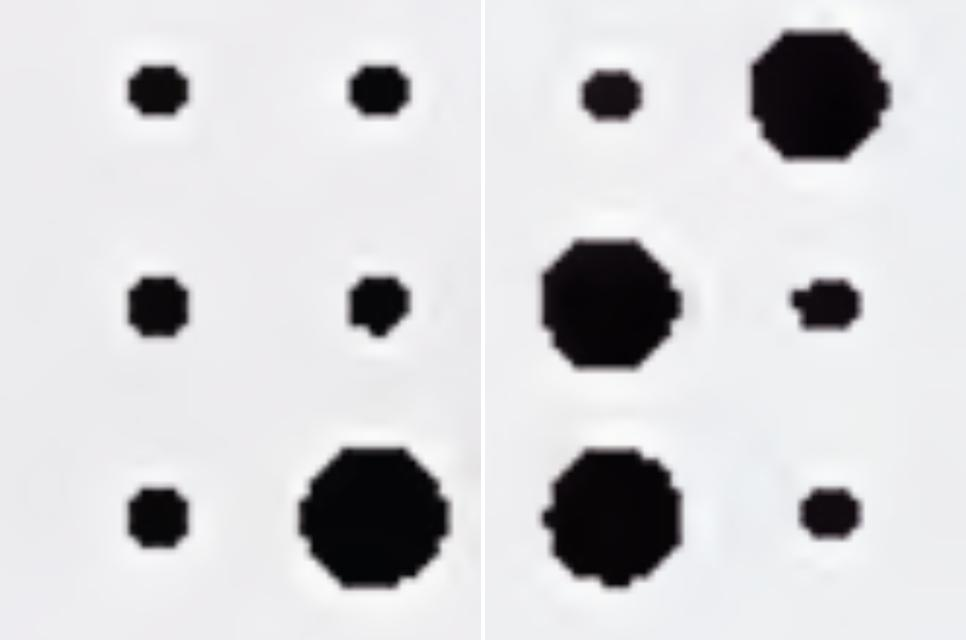S: (539, 29, 892, 586)
capital: (126, 60, 453, 587)
